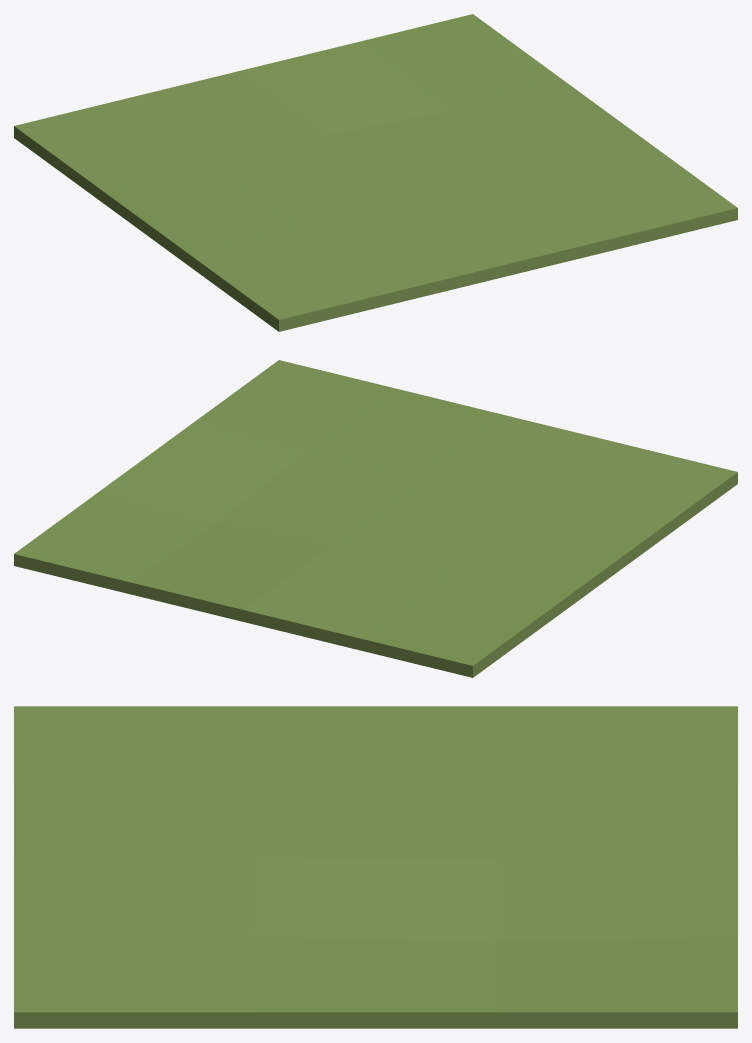
The model's file is Road_001-col.glb.
The picture shows the model from 3 angles, top to bottom: view 1: azimuth 30°, elevation 25°; view 2: azimuth 150°, elevation 25°; view 3: azimuth 270°, elevation 25°; orthographic projection. The views are drawn at different scales.
Visible parts, largest first — view 1: GrassFloor_01_A-col; view 2: GrassFloor_01_A-col; view 3: GrassFloor_01_A-col.
Part boxes in pixels (box(x1,y1,x2,y2)): GrassFloor_01_A-col: box(14, 14, 737, 331); GrassFloor_01_A-col: box(14, 360, 737, 677); GrassFloor_01_A-col: box(14, 706, 737, 1028).
Bounding box in the file's own units: 2 × 0.0569 × 2.
Materials: 1 (1 with a texture image).
